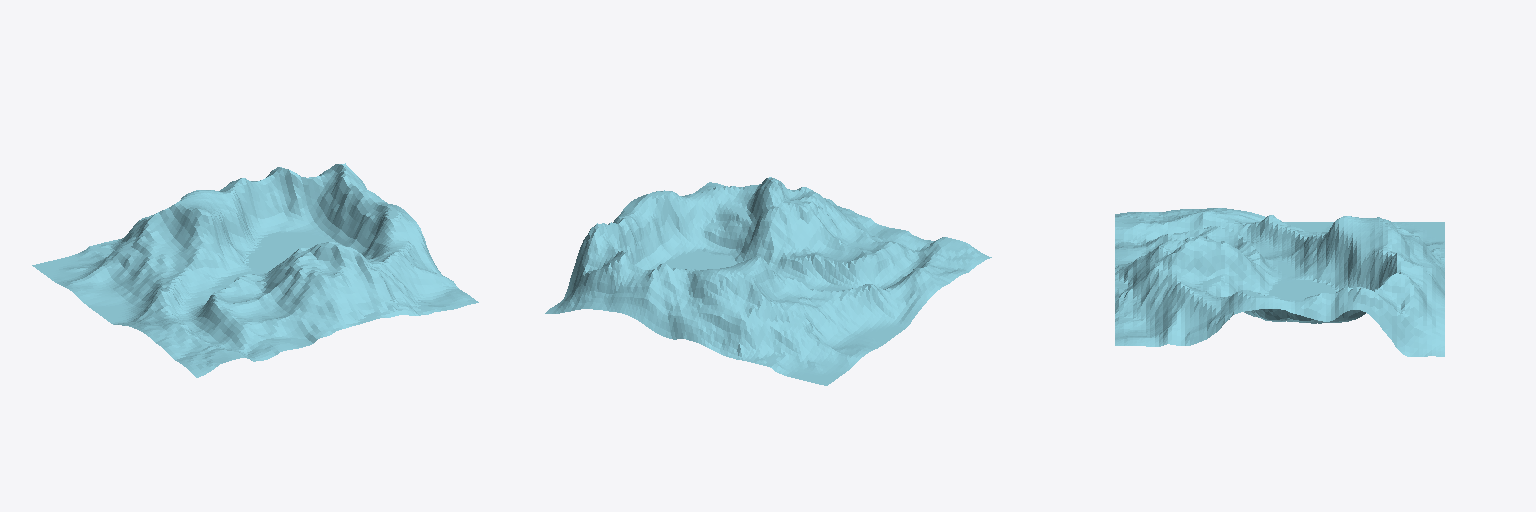
File: terrain.obj
3 renders of one model, left to right at view 1: azimuth 30°, elevation 25°; view 2: azimuth 150°, elevation 25°; view 3: azimuth 270°, elevation 25°, orthographic.
Visible parts, largest first — view 1: Plane001; view 2: Plane001; view 3: Plane001.
Part boxes in pixels (bbox=[...]): Plane001: bbox=[32, 163, 478, 377]; Plane001: bbox=[545, 177, 991, 385]; Plane001: bbox=[1115, 208, 1444, 356].
Size of the model in its own units: 199 by 47.46 by 201.